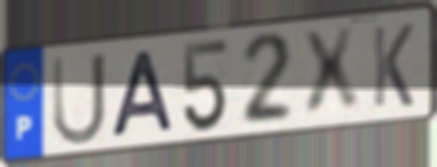2: (239, 30, 296, 132)
5: (180, 36, 230, 135)
A: (106, 48, 178, 141)
K: (370, 21, 416, 111)
U: (49, 50, 109, 150)
X: (298, 24, 364, 123)
